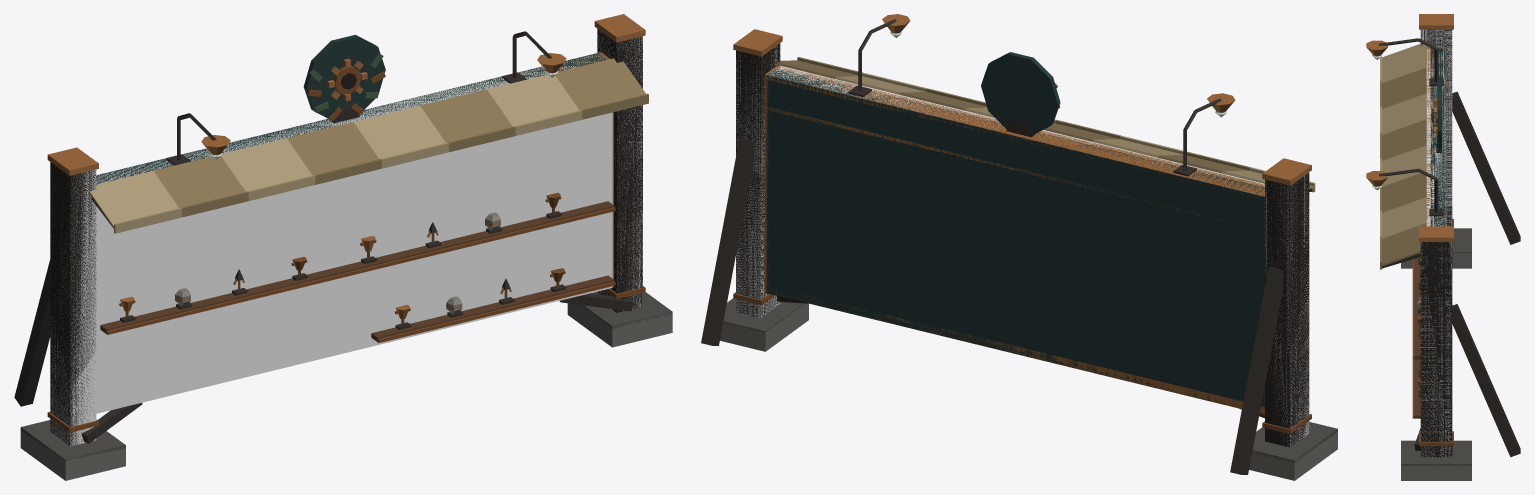
Rendered from camp_trophy_wall.glb.
3 views of the same model, side by side, from view 1: azimuth 30°, elevation 25°; view 2: azimuth 150°, elevation 25°; view 3: azimuth 270°, elevation 25° (orthographic). The views are drawn at different scales.
Parts seen in each view (by area): view 1: camp_trophy_wall-col-col, Body; view 2: Body, camp_trophy_wall-col-col; view 3: Body, camp_trophy_wall-col-col.
Part boxes in pixels (bbox=[...]): camp_trophy_wall-col-col: bbox=[50, 29, 642, 446]; Body: bbox=[14, 14, 672, 480]; Body: bbox=[701, 14, 1337, 480]; camp_trophy_wall-col-col: bbox=[736, 46, 1309, 447]; Body: bbox=[1366, 14, 1520, 480]; camp_trophy_wall-col-col: bbox=[1420, 29, 1452, 457].
Size of the model in its own units: 14.1 by 7.77 by 3.91.
